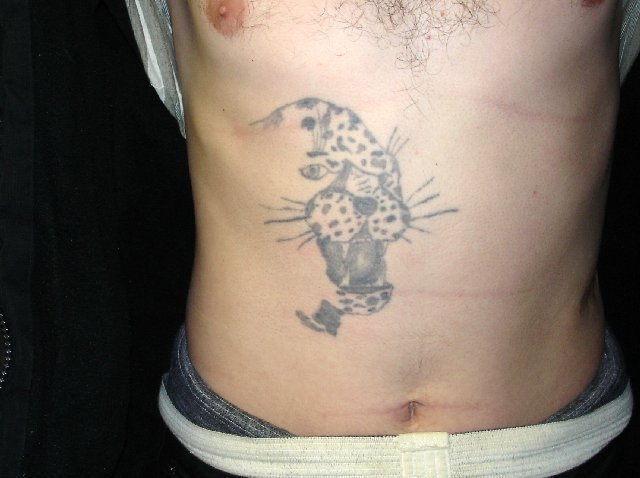tatu5_tigr: (219, 95, 456, 340)
